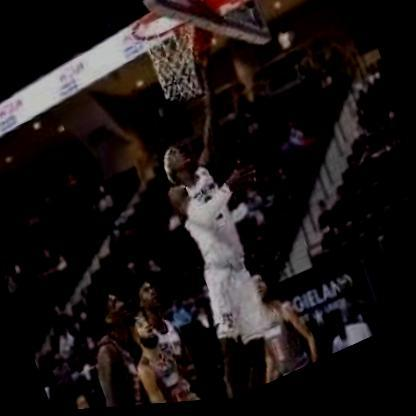basketball: (167, 5, 224, 66)
